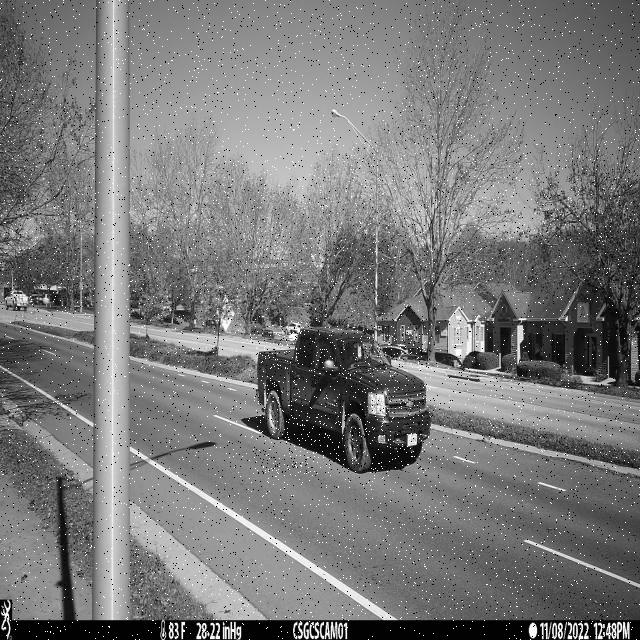Pickup: (256, 326, 431, 474)
